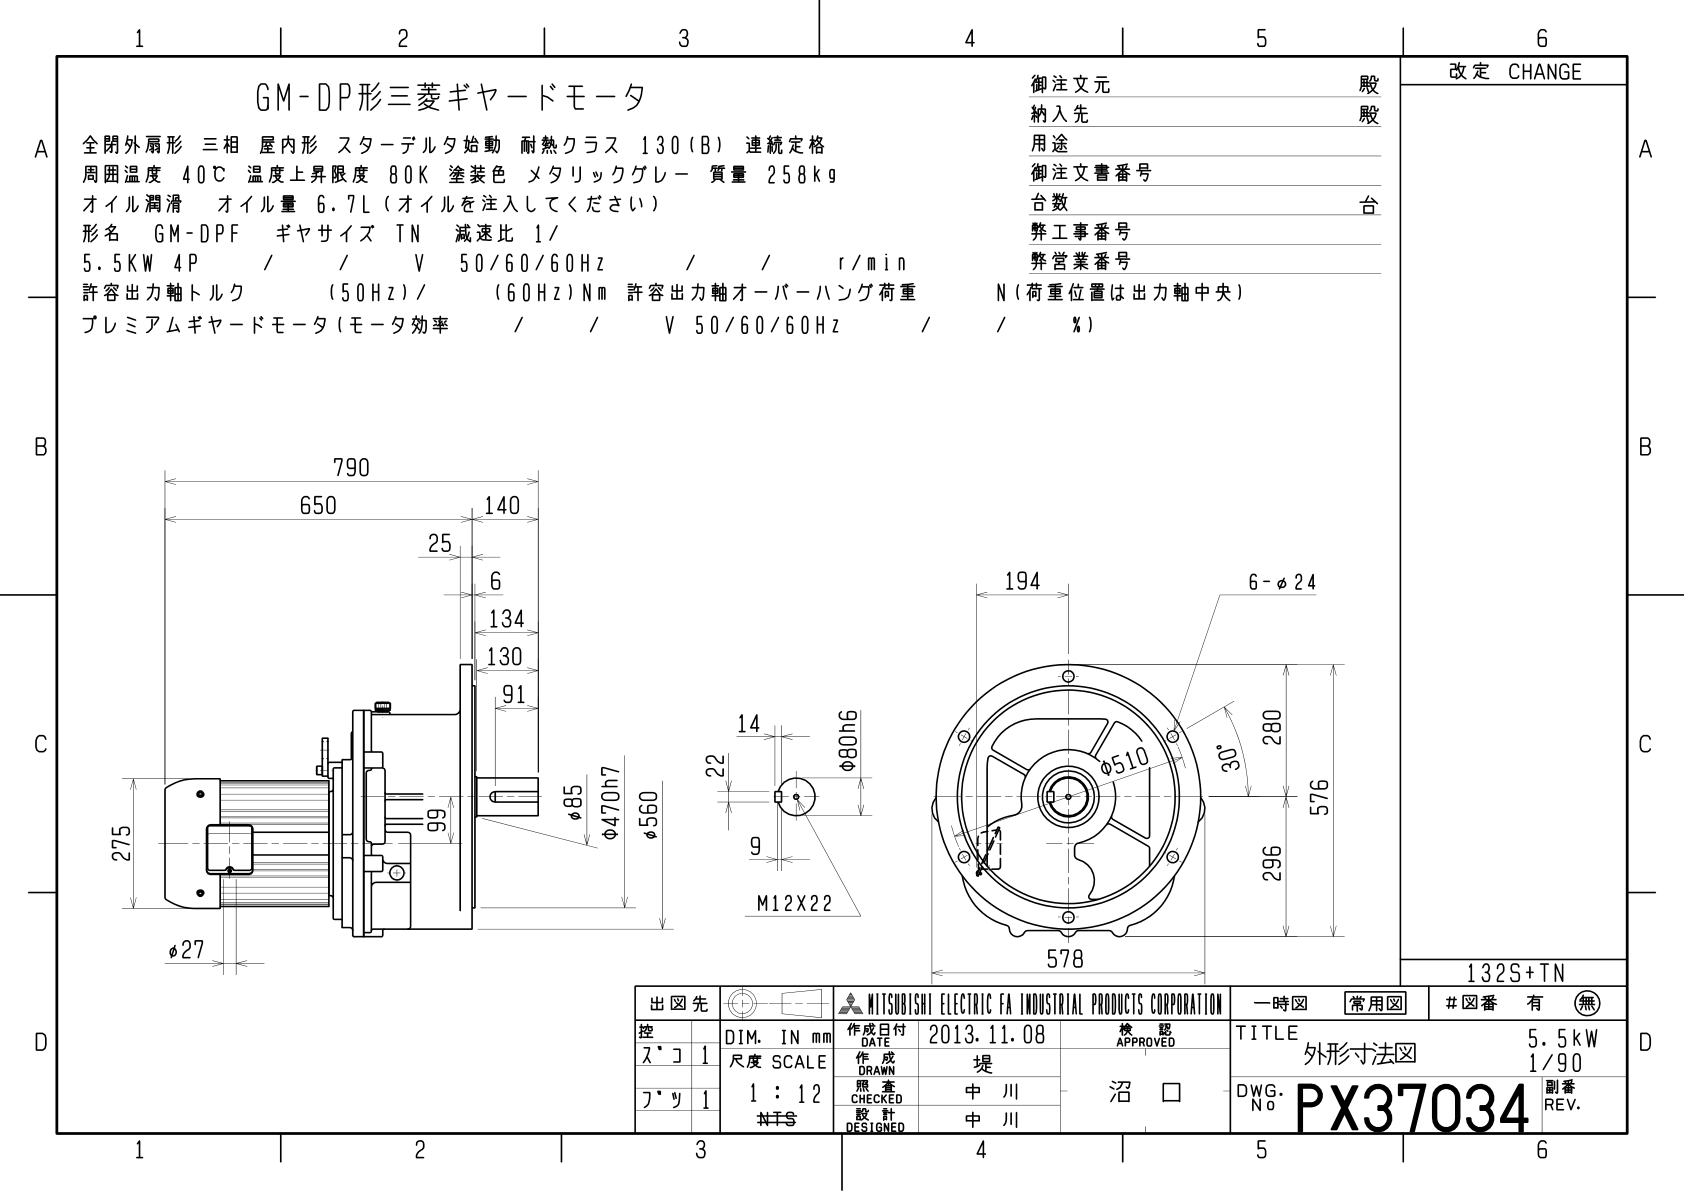GM_DP_屋内_三相_フランジ: (15, 10, 1684, 1191)
